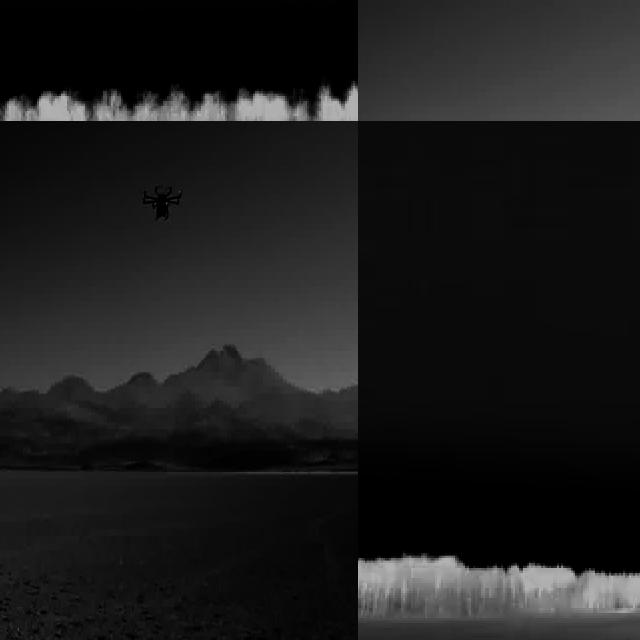drone: (140, 175, 187, 229)
